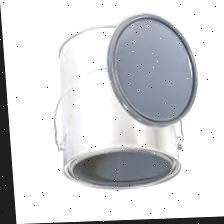metal: (37, 14, 205, 197), (99, 14, 209, 128)
